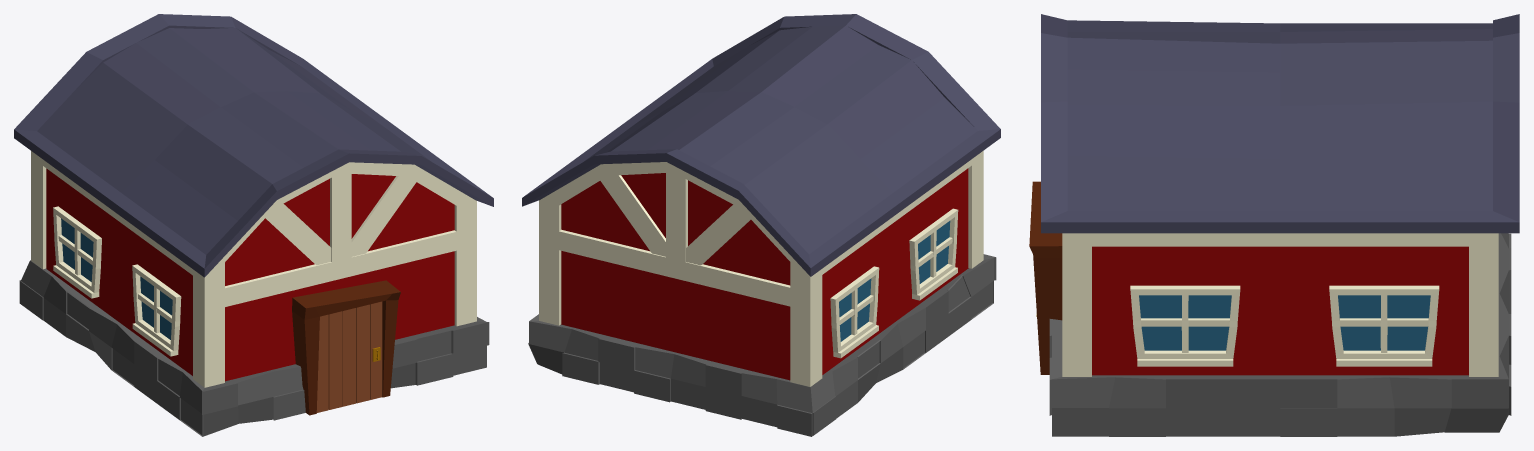
Rendered from RanchHouse.fbx.
The picture shows the model from 3 angles, left to right: view 1: azimuth 30°, elevation 25°; view 2: azimuth 150°, elevation 25°; view 3: azimuth 270°, elevation 25°; orthographic projection. The views are drawn at different scales.
Parts seen in each view (by area): view 1: brown_house, Cube, Window.002, Window.003; view 2: brown_house, Cube, Window.003, Window.002; view 3: brown_house, Cube, Window, Window.001.
Boxes of the visible parts, <box> form: brown_house: <box>14,14,493,436</box>; Cube: <box>31,151,476,387</box>; Window.002: <box>132,264,181,356</box>; Window.003: <box>53,206,101,298</box>; brown_house: <box>522,14,1000,436</box>; Cube: <box>539,151,983,386</box>; Window.003: <box>830,266,879,358</box>; Window.002: <box>909,208,958,300</box>; brown_house: <box>1029,14,1519,436</box>; Cube: <box>1062,233,1498,376</box>; Window: <box>1130,285,1240,366</box>; Window.001: <box>1329,285,1439,366</box>.
Bounding box in the file's own units: 8.74 × 7.29 × 10.21.
